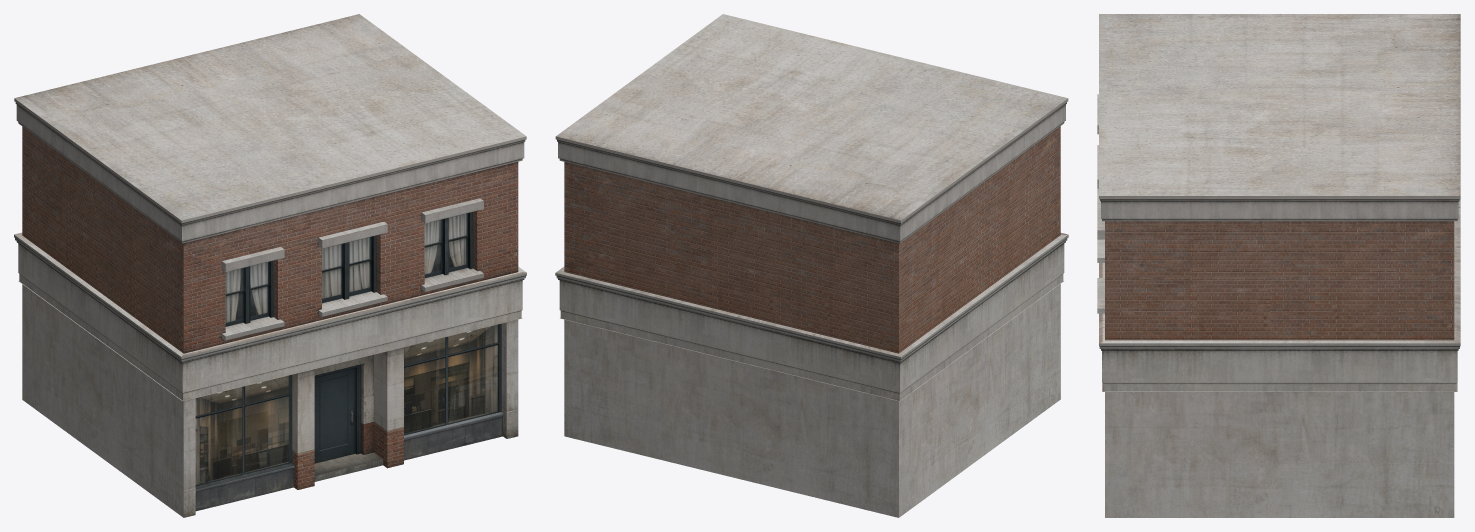
Rendered from brick_shop_building__lowpoly.glb.
The picture shows the model from 3 angles, left to right: view 1: azimuth 30°, elevation 25°; view 2: azimuth 150°, elevation 25°; view 3: azimuth 270°, elevation 25°; orthographic projection. The views are drawn at different scales.
Visible parts, largest first — view 1: storefront 1; view 2: storefront 1; view 3: storefront 1.
Boxes of the visible parts, x1,y1,x2,y2 form: storefront 1: [14, 14, 526, 517]; storefront 1: [555, 14, 1068, 517]; storefront 1: [1097, 14, 1460, 517].
Size of the model in its own units: 0.9367 by 0.7786 by 0.7898.
Materials: 2 (2 with a texture image).
